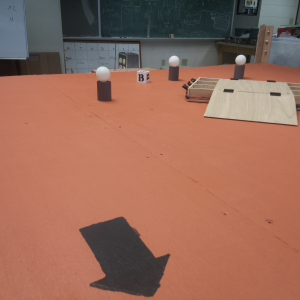obstacle: (94, 65, 113, 103), (167, 55, 180, 81), (233, 54, 246, 78)
side: (183, 76, 216, 100)
slope: (213, 91, 300, 129)
